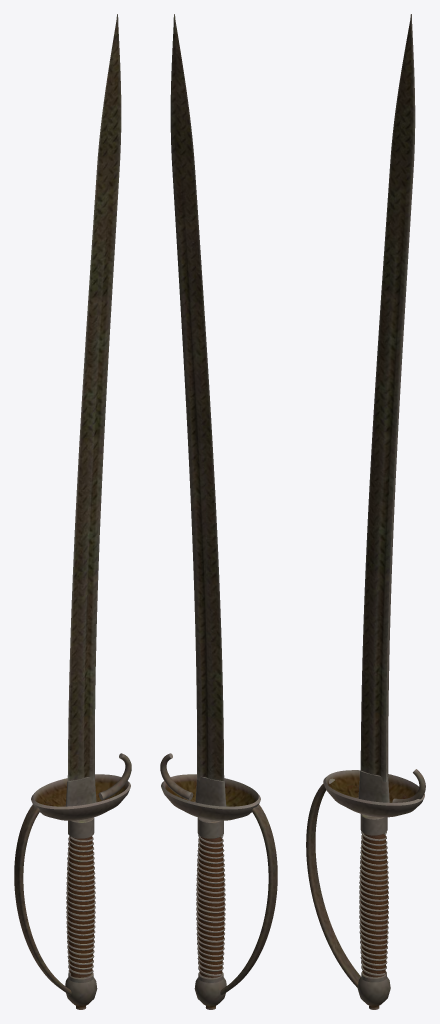
File: cutlass.glb
The picture shows the model from 3 angles, left to right: view 1: azimuth 30°, elevation 25°; view 2: azimuth 150°, elevation 25°; view 3: azimuth 330°, elevation 25°; orthographic projection.
Visible parts, largest first — view 1: blade, cutlass_body; view 2: blade, cutlass_body; view 3: blade, cutlass_body.
Boxes of the visible parts, x1,y1,x2,y2 form: blade: (67,14,121,781); cutlass_body: (14,753,131,1009); blade: (170,14,224,781); cutlass_body: (160,753,277,1009); blade: (360,14,415,781); cutlass_body: (306,769,425,1009).
Bounding box in the file's own units: 0.1732 × 1.42 × 0.088.
Materials: 1 (1 with a texture image).
